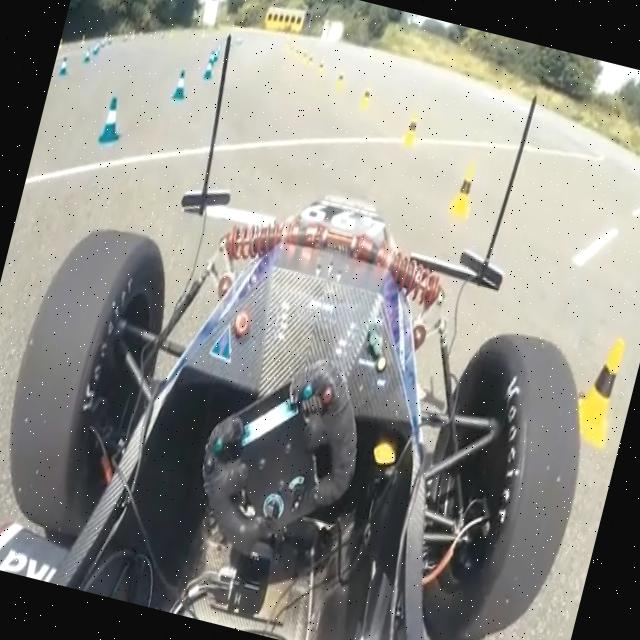blue_cone: (92, 89, 130, 148), (169, 66, 191, 105), (200, 55, 216, 83), (56, 52, 72, 77), (206, 45, 220, 73), (81, 48, 92, 66), (90, 42, 100, 60)
yellow_cone: (560, 318, 635, 448), (447, 161, 482, 220), (398, 113, 421, 152), (358, 84, 373, 112), (334, 68, 346, 92), (314, 56, 326, 80), (300, 48, 308, 66), (306, 53, 314, 69), (292, 47, 300, 61)
